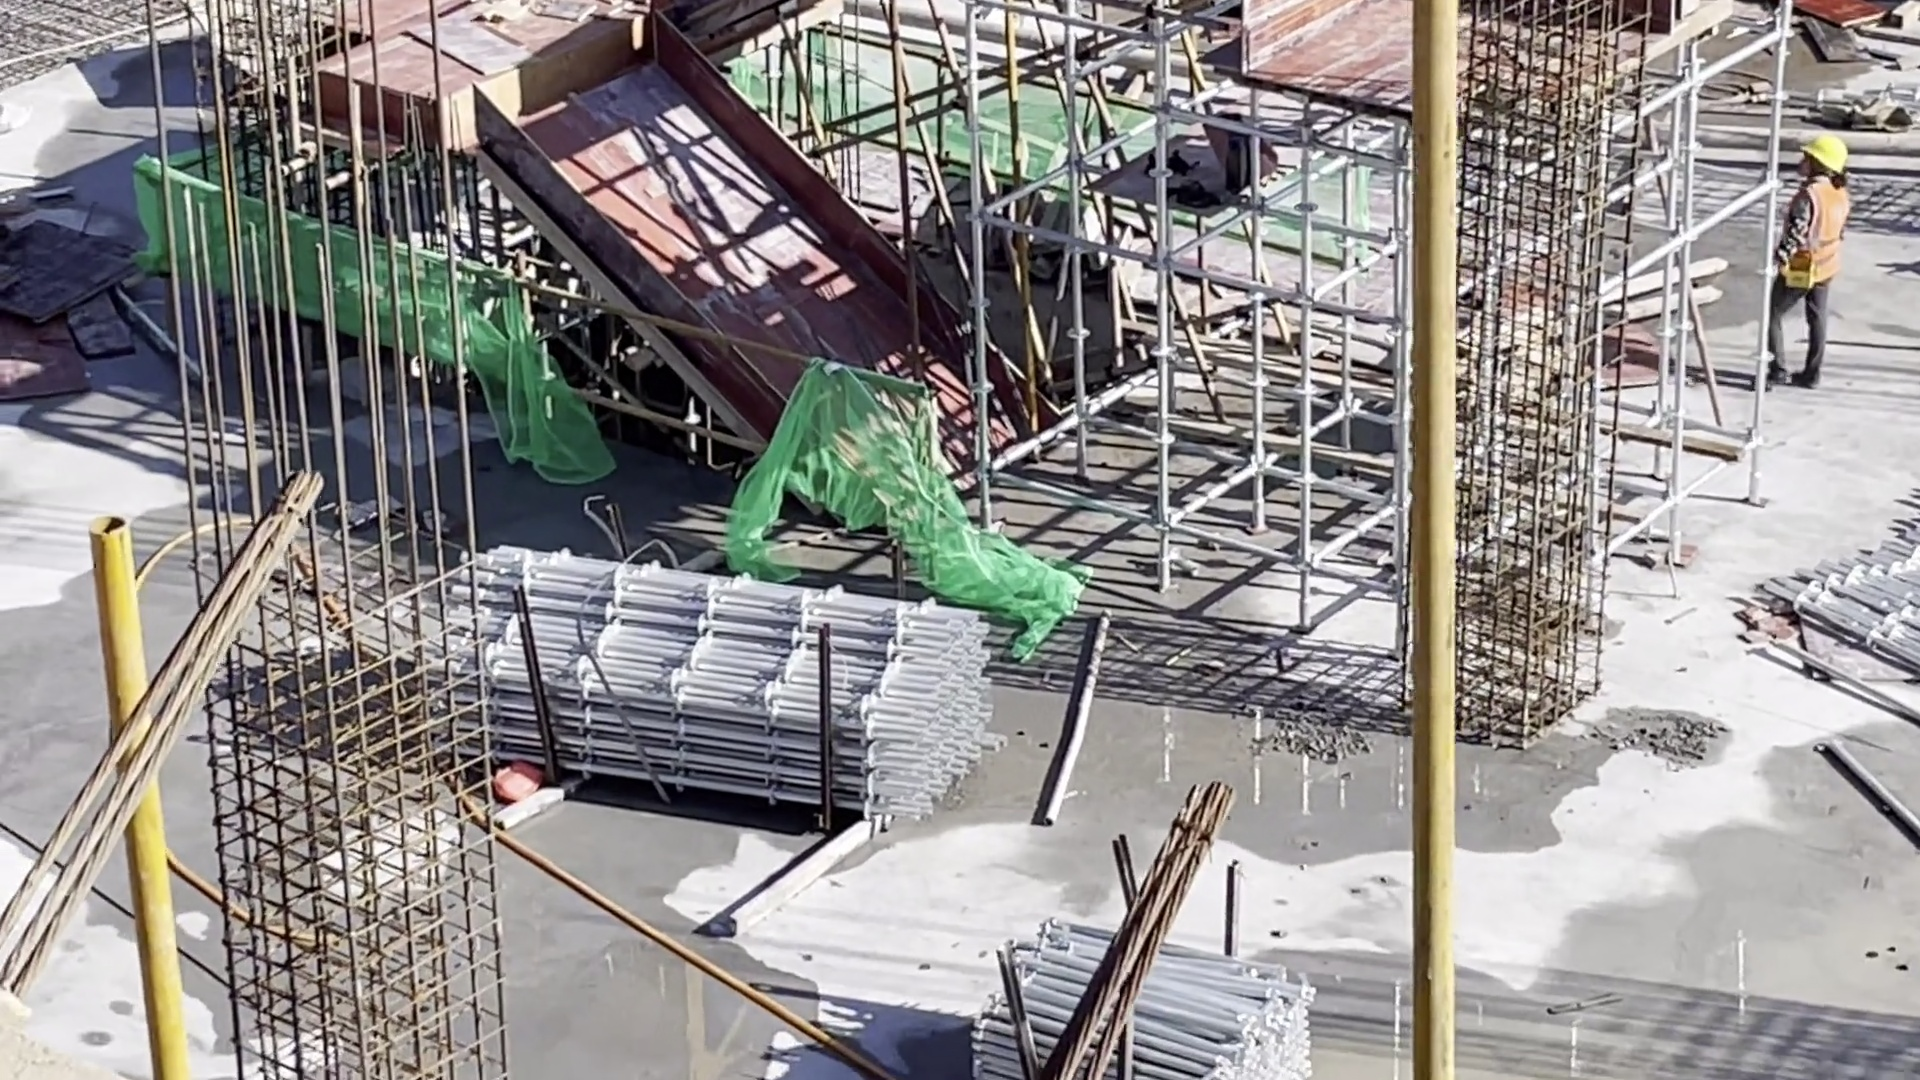helmet: (1804, 140, 1850, 173)
person: (1773, 141, 1847, 398)
scaffold: (421, 539, 1011, 820), (972, 915, 1313, 1080)
vest: (1787, 182, 1846, 290)
